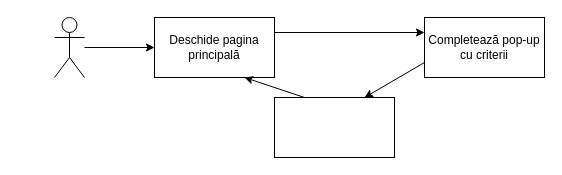
This 562x175 diagram has some shape labels left out. The centre of each missing label's shape, as x and y in pixels:
Filtrare service-uri după criterii: (334,127)
Utilizator (persoană conectată): (69,47)
